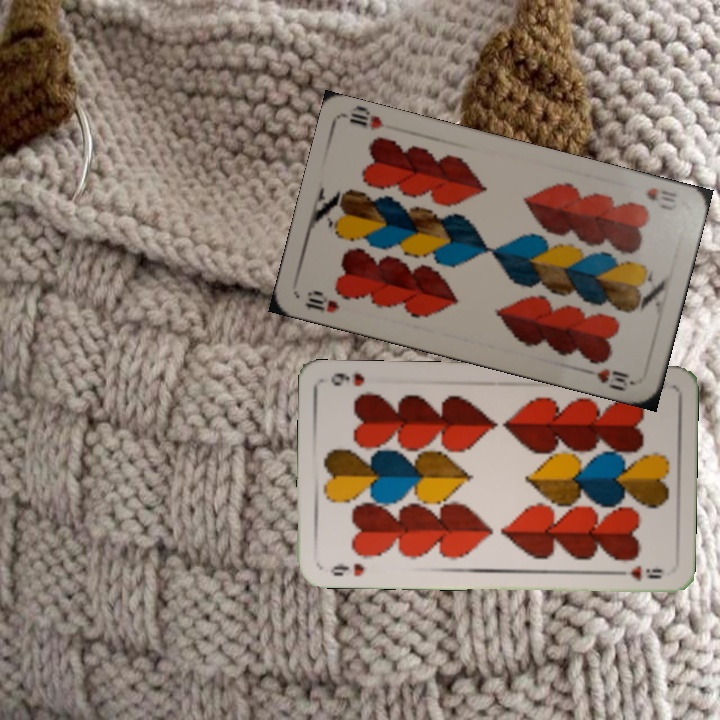H10: (301, 286, 342, 316), (641, 183, 679, 214)
H9: (327, 559, 367, 579)
